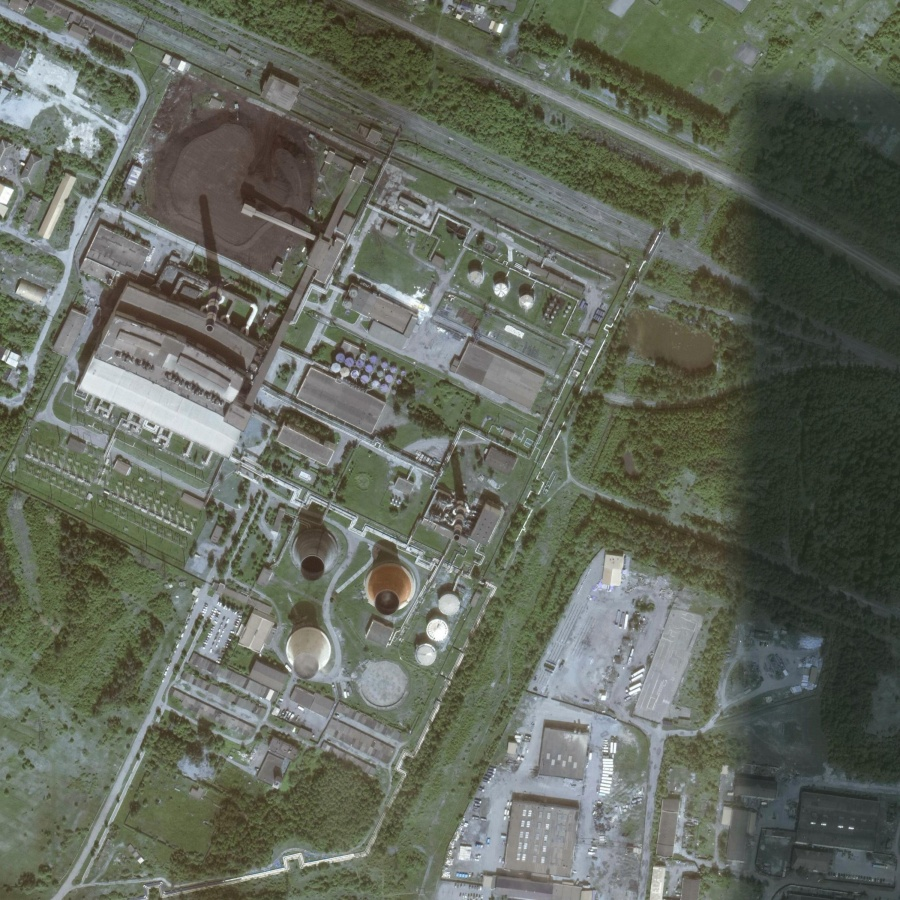PowerPlant: (71, 92, 536, 694)
